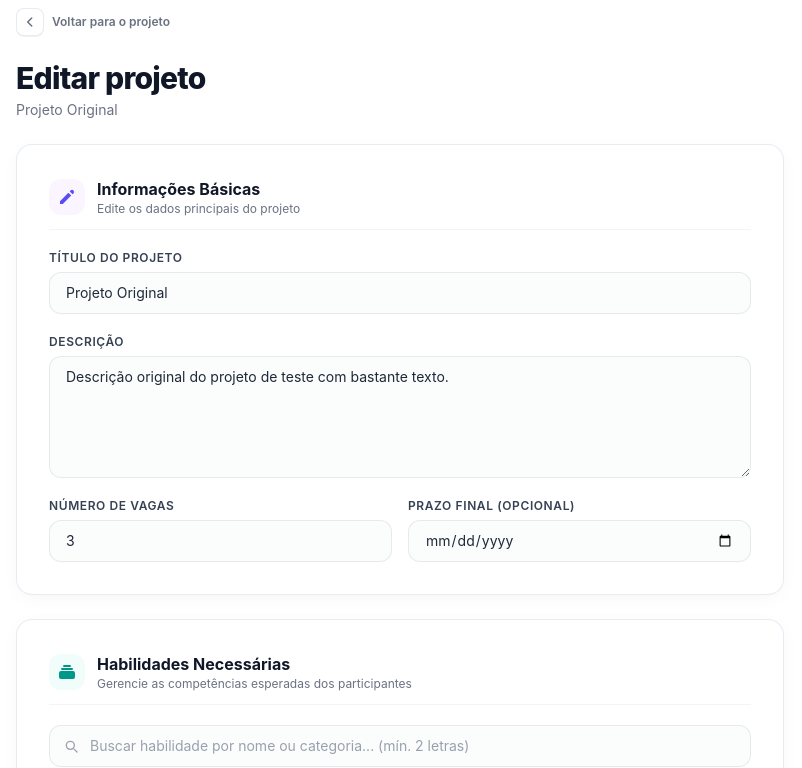
Scenario: EditarProjeto › salva as alterações do formulário chamando atualizarProjeto
Replace the text in the field showing "Projeto Original" with "Projeto Atualizado" at (400, 293), box [49,272,751,314]
(page scrolled)
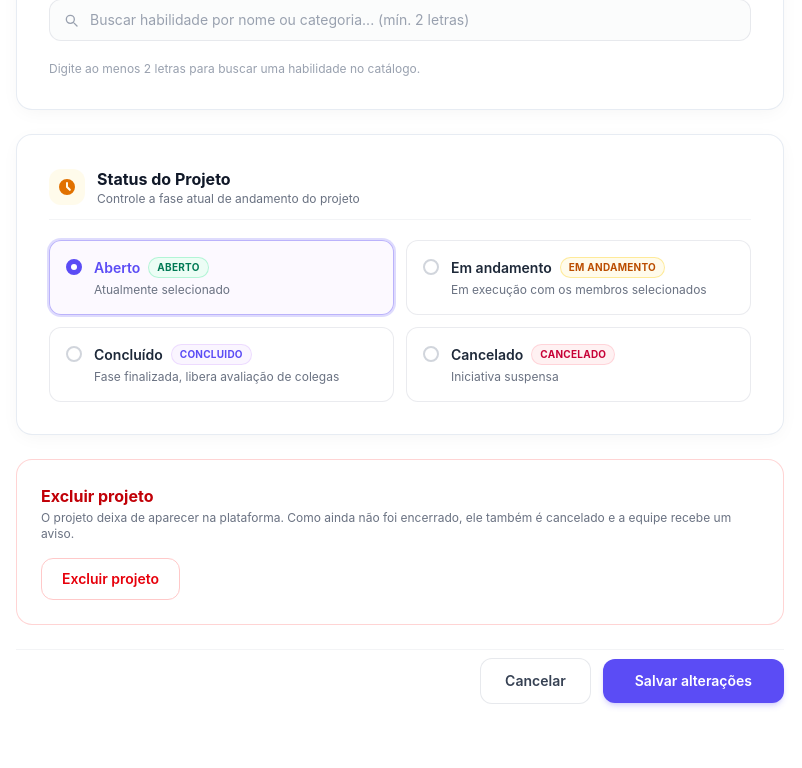
Click the button "Salvar alterações" at (693, 681), box [603,659,784,703]
(page scrolled)
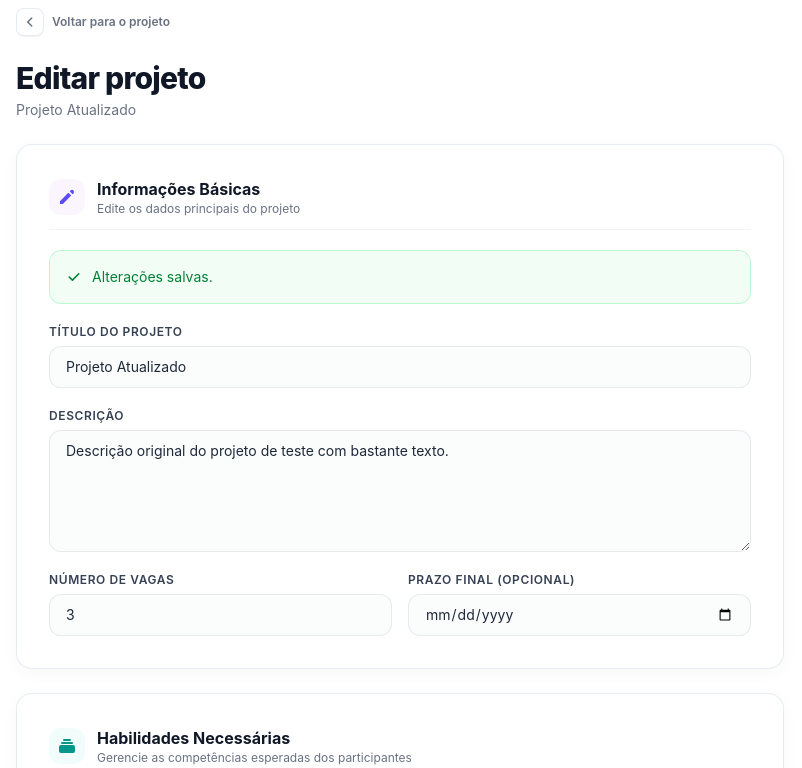
expect the text "Alterações salvas." is shown: met, box [92,267,213,287]
